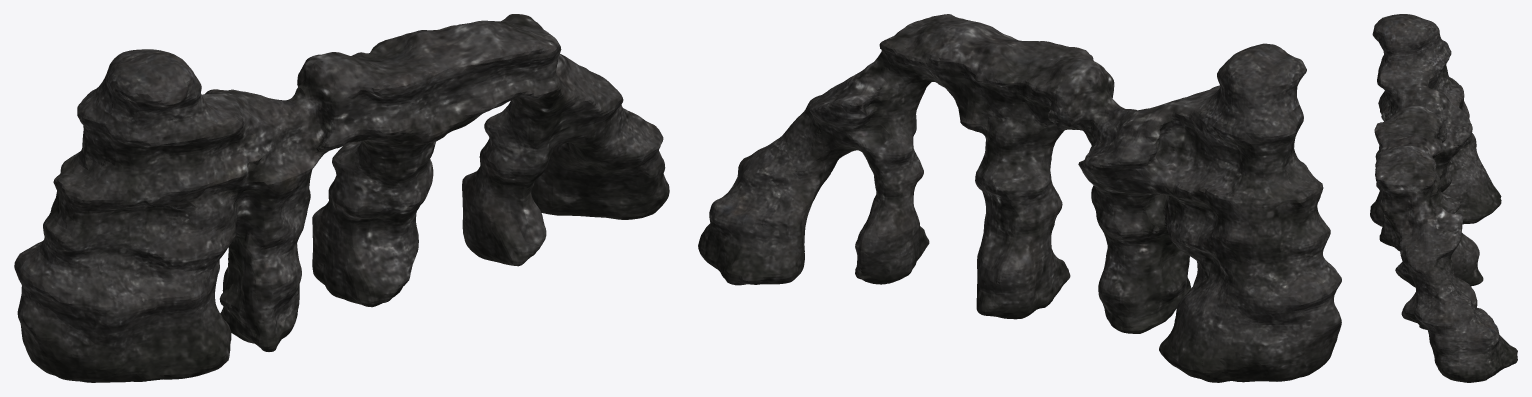
3 renders of one model, left to right at view 1: azimuth 30°, elevation 25°; view 2: azimuth 150°, elevation 25°; view 3: azimuth 270°, elevation 25°, orthographic. The views are drawn at different scales.
Visible parts, largest first — view 1: Node; view 2: Node; view 3: Node.
Boxes of the visible parts, x1=… form: Node: x1=14, y1=14, x2=669, y2=382; Node: x1=698, y1=14, x2=1341, y2=382; Node: x1=1370, y1=14, x2=1517, y2=382.
Size of the model in its own units: 1.93 by 0.8728 by 0.59.
1 material, 1 textured.
